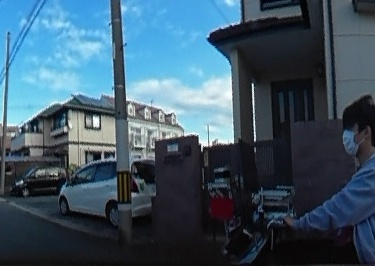person: (285, 92, 375, 266)
